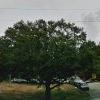Tree: (6, 10, 100, 96)
